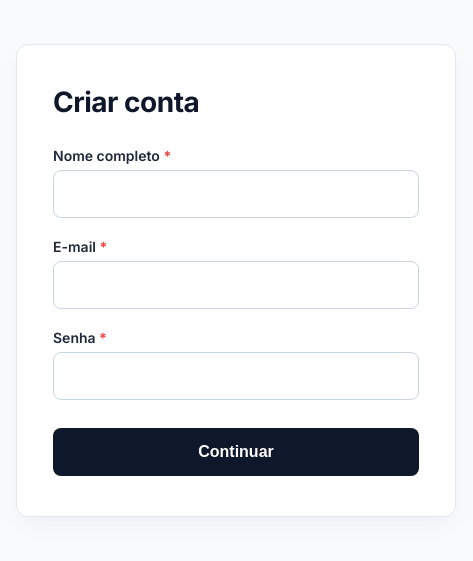
Test: Cadastro › envia os dados para a rota de criação e limpa os campos após sucesso
The width and height of the screenshot is (473, 561).
In the field labelled "Nome completo *": (236, 194) [53,170,419,218], type "Ana Lima"
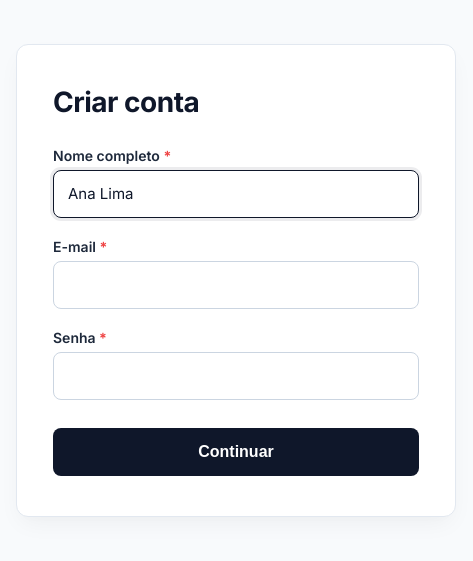
In the field labelled "E-mail *": (236, 284) [53,260,419,308], type "ana@exemplo.com"
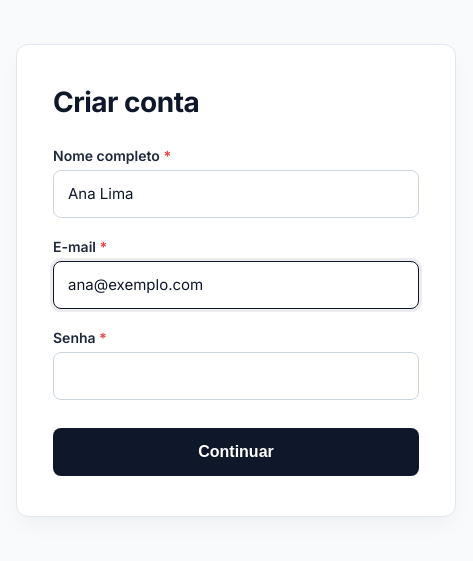
In the password field labelled "Senha *": (236, 376) [53,352,419,400], type "senha-segura"
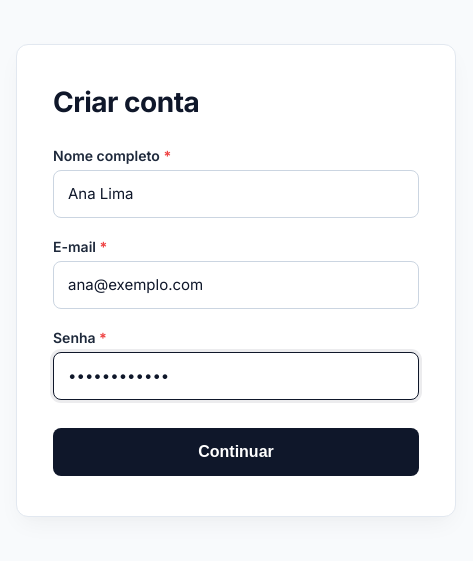
Click the button "Continuar": (236, 452) [53,428,419,476]
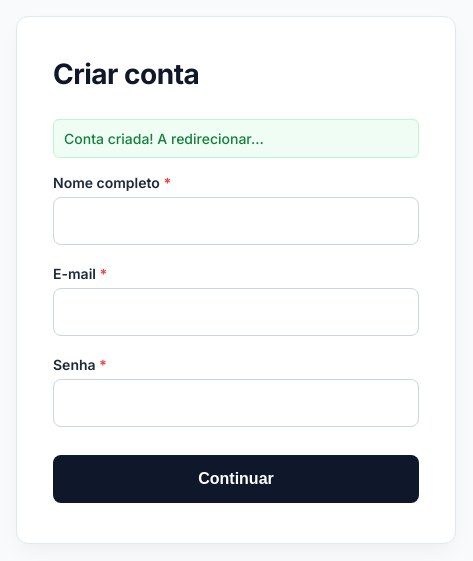
Check: the text "Conta criada! A redirecionar..." is shown, box [53,119,419,158]
Check: the field labelled "Nome completo *" is empty, box [53,197,419,245]
Check: the field labelled "E-mail *" is empty, box [53,288,419,336]
